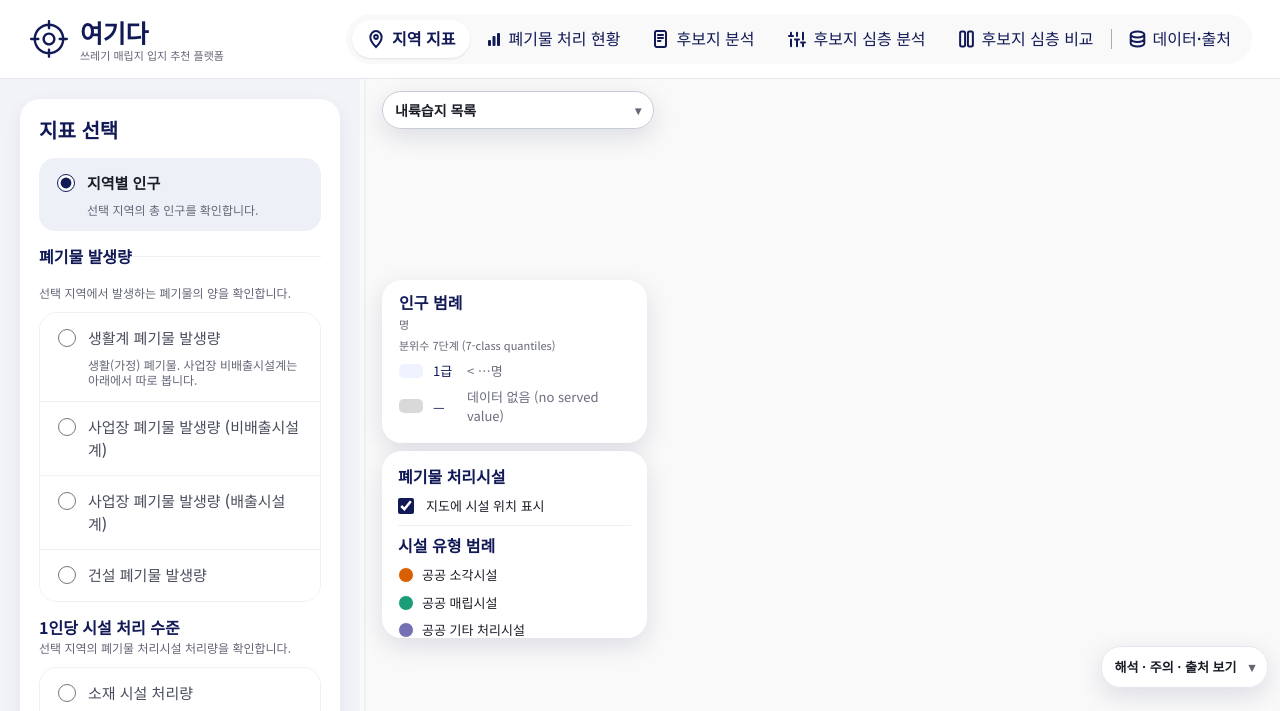
Test case: 데이터와 출처 keeps its primary surface in plain Korean › keeps one plain-Korean heading and the frozen navigation labels
Click the button with test id "mode-transparency" at [1180, 39], box [1114,20,1246,58]
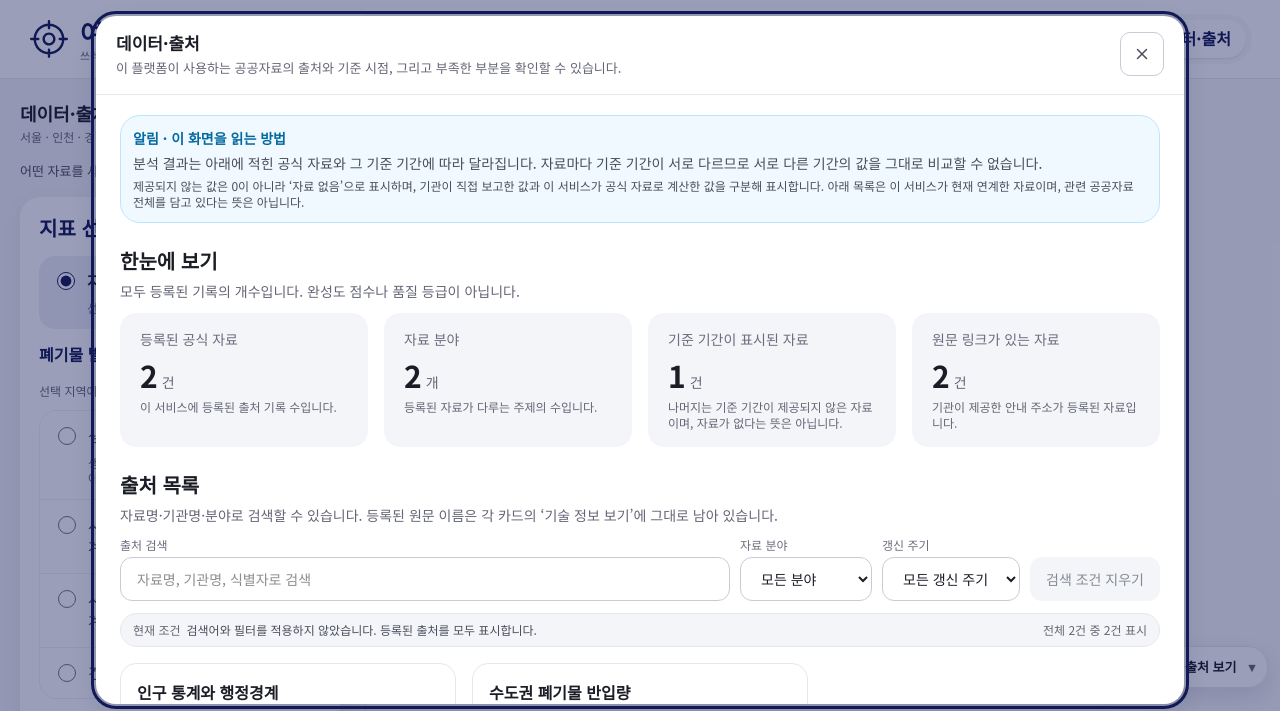
Result: the heading "데이터·출처" next to "내륙습지 목록" is shown at [20,100,109,126]
